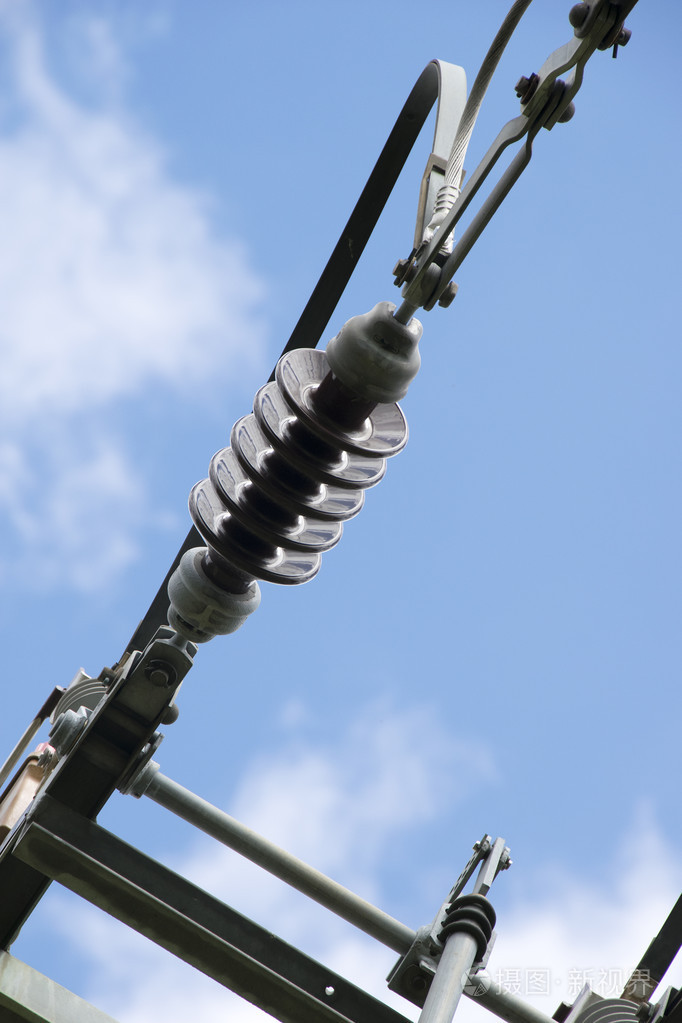insulator: (190, 350, 406, 575)
